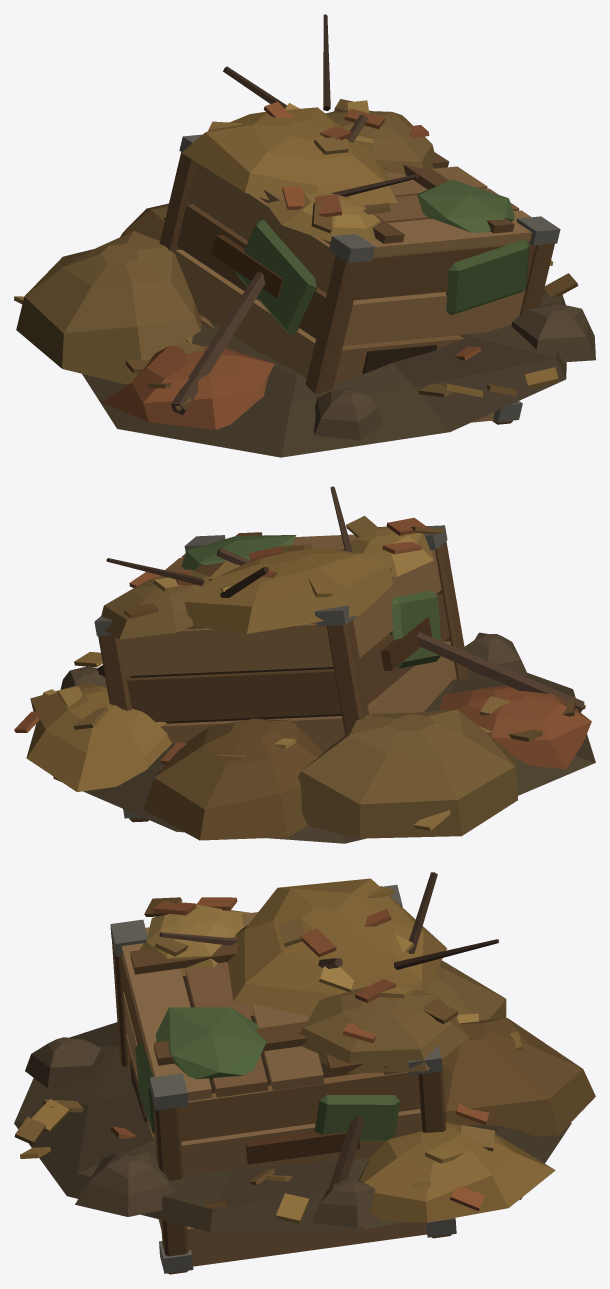
Rendered from caixa_escondida.glb.
3 renders of one model, top to bottom at view 1: azimuth 30°, elevation 25°; view 2: azimuth 150°, elevation 25°; view 3: azimuth 270°, elevation 25°, orthographic. The views are drawn at different scales.
Visible parts, largest first — view 1: caixa_escondida.001; view 2: caixa_escondida.001; view 3: caixa_escondida.001.
Part boxes in pixels (left/top/right/bottom): caixa_escondida.001: left=14, top=14, right=595, bottom=457; caixa_escondida.001: left=14, top=486, right=595, bottom=843; caixa_escondida.001: left=14, top=872, right=595, bottom=1274.
Bounding box in the file's own units: 1.84 × 1.11 × 1.83.
